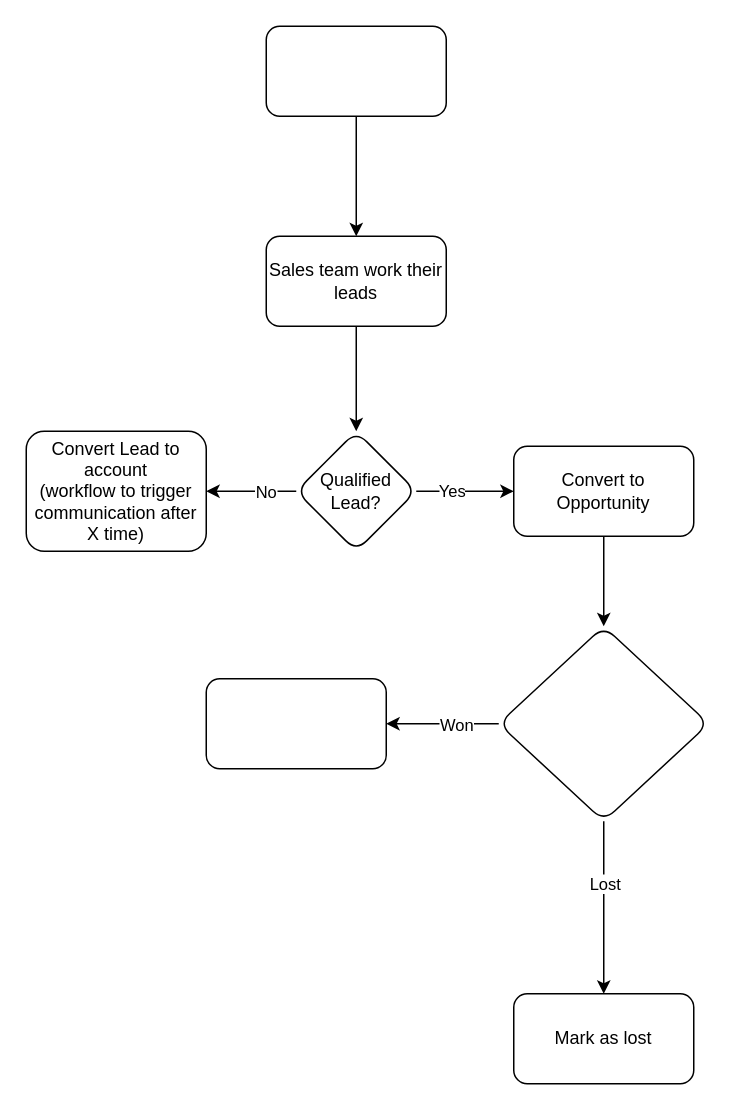
This 735x1110 diagram has some shape labels left out. Each missing label, with the centre of its shape:
"New Leads are added to CRM" belongs at pixel 355 70.
"Opportunity Won/Lost" belongs at pixel 603 723.
